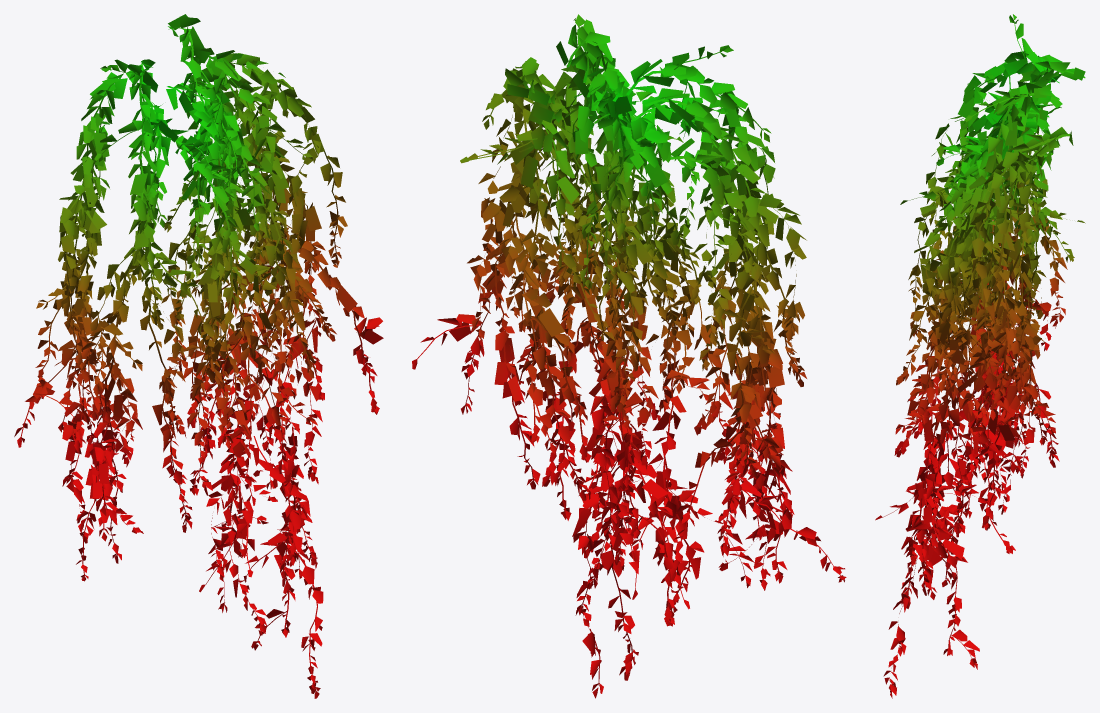
The model's file is Var1_LOD4.fbx.
The picture shows the model from 3 angles, left to right: view 1: azimuth 30°, elevation 25°; view 2: azimuth 150°, elevation 25°; view 3: azimuth 270°, elevation 25°; orthographic projection. The views are drawn at different scales.
Parts seen in each view (by area): view 1: _80we_Var1_LOD4; view 2: _80we_Var1_LOD4; view 3: _80we_Var1_LOD4.
Part boxes in pixels (x1=…): _80we_Var1_LOD4: x1=14, y1=14, x2=383, y2=698; _80we_Var1_LOD4: x1=412, y1=14, x2=846, y2=698; _80we_Var1_LOD4: x1=875, y1=14, x2=1085, y2=698.
Size of the model in its own units: 144 by 255 by 78.77.
